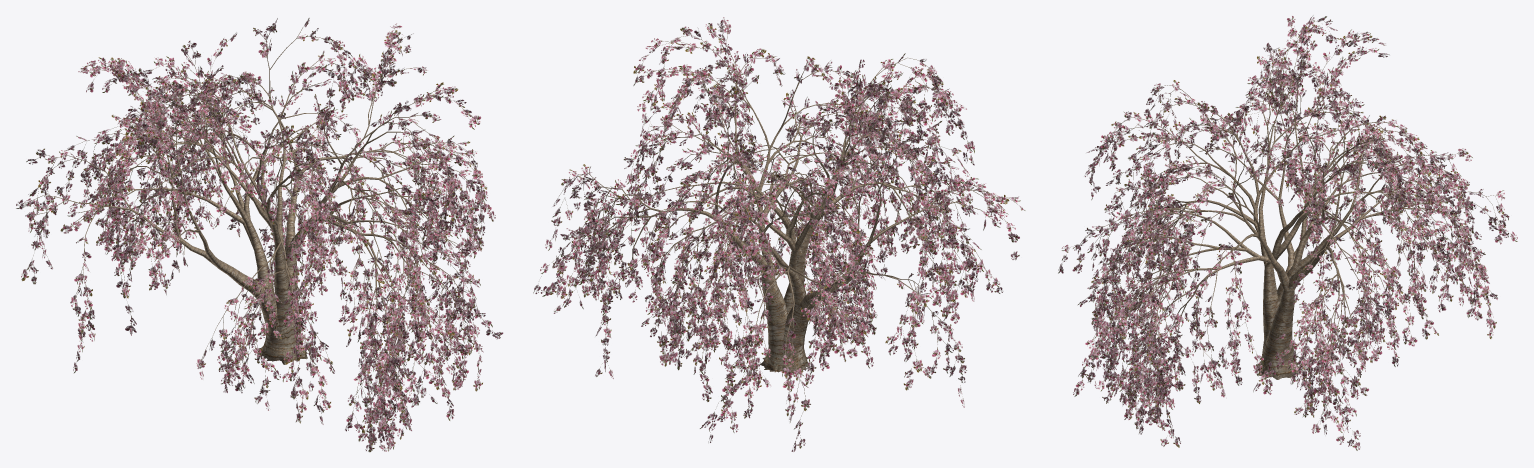
The model's file is sakura.glb.
3 views of the same model, side by side, from view 1: azimuth 30°, elevation 25°; view 2: azimuth 150°, elevation 25°; view 3: azimuth 270°, elevation 25° (orthographic). The views are drawn at different scales.
Visible parts, largest first — view 1: Object_2, Object_3; view 2: Object_2, Object_3; view 3: Object_2, Object_3.
Boxes of the visible parts, box(x1,y1,x2,y2) form: Object_2: box(16, 18, 503, 452); Object_3: box(25, 25, 492, 440); Object_2: box(533, 17, 1025, 451); Object_3: box(541, 26, 1017, 437); Object_2: box(1058, 15, 1517, 450); Object_3: box(1064, 21, 1507, 429).
Size of the model in its own units: 5.74 by 5.12 by 5.78.
2 materials, 2 textured.
